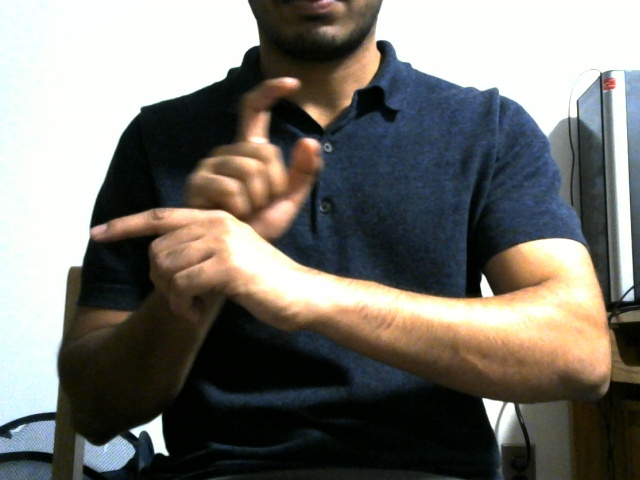call: (59, 59, 396, 300)
